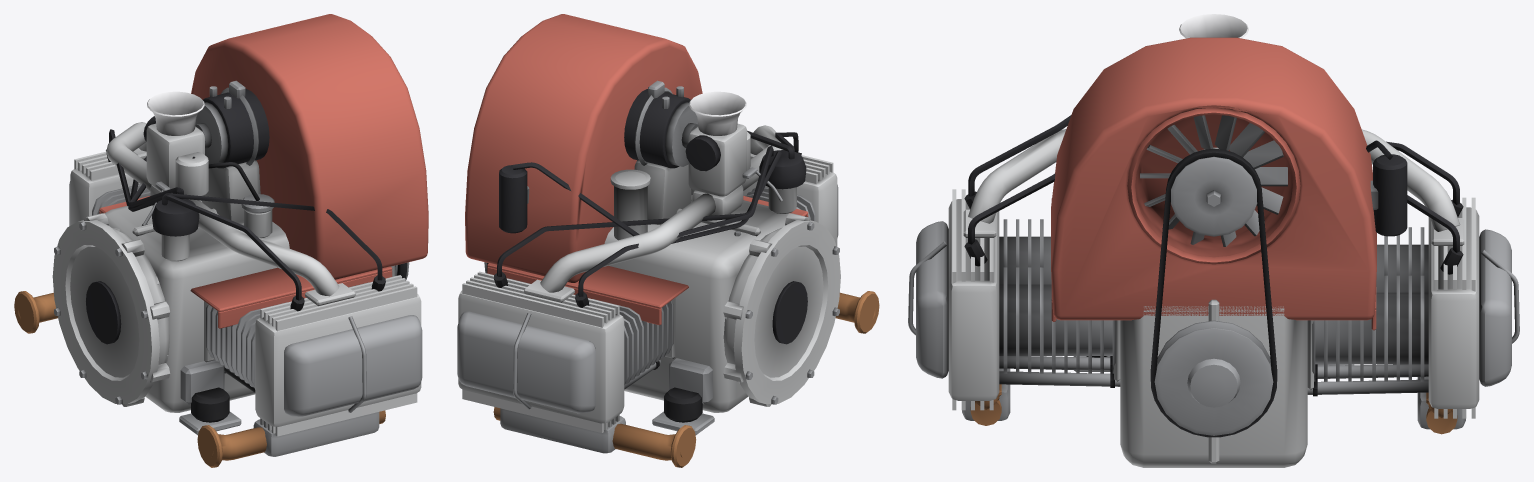
Rendered from eng_boxer4.glb.
The picture shows the model from 3 angles, left to right: view 1: azimuth 30°, elevation 25°; view 2: azimuth 150°, elevation 25°; view 3: azimuth 270°, elevation 25°; orthographic projection. The views are drawn at different scales.
Parts seen in each view (by area): view 1: PART; view 2: PART; view 3: PART.
Boxes of the visible parts, x1,y1,x2,y2 form: PART: (14,14,428,467); PART: (457,14,879,467); PART: (908,14,1519,467).
Size of the model in its own units: 0.524 by 0.55 by 0.7843.
